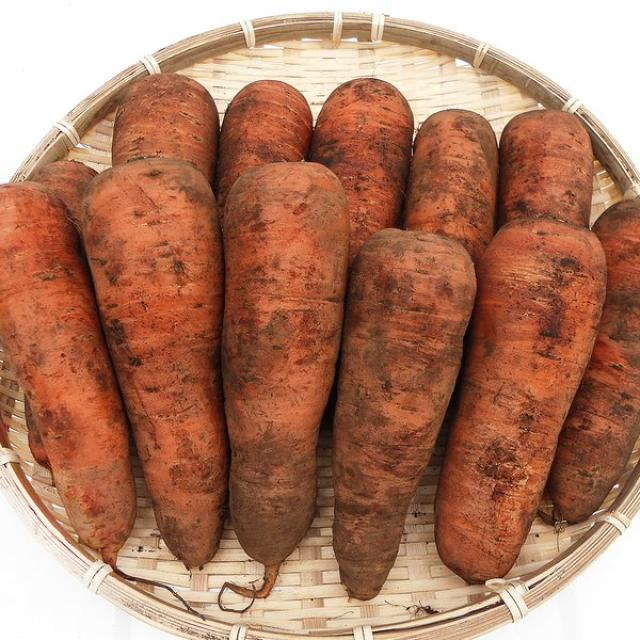carrot: (435, 212, 611, 590), (323, 225, 481, 604), (79, 156, 220, 575), (1, 182, 144, 582), (223, 163, 347, 603)
